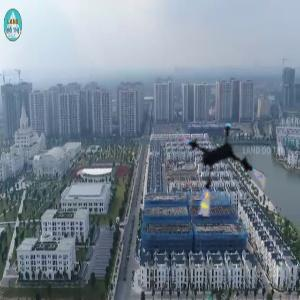drone: (173, 124, 271, 222)
